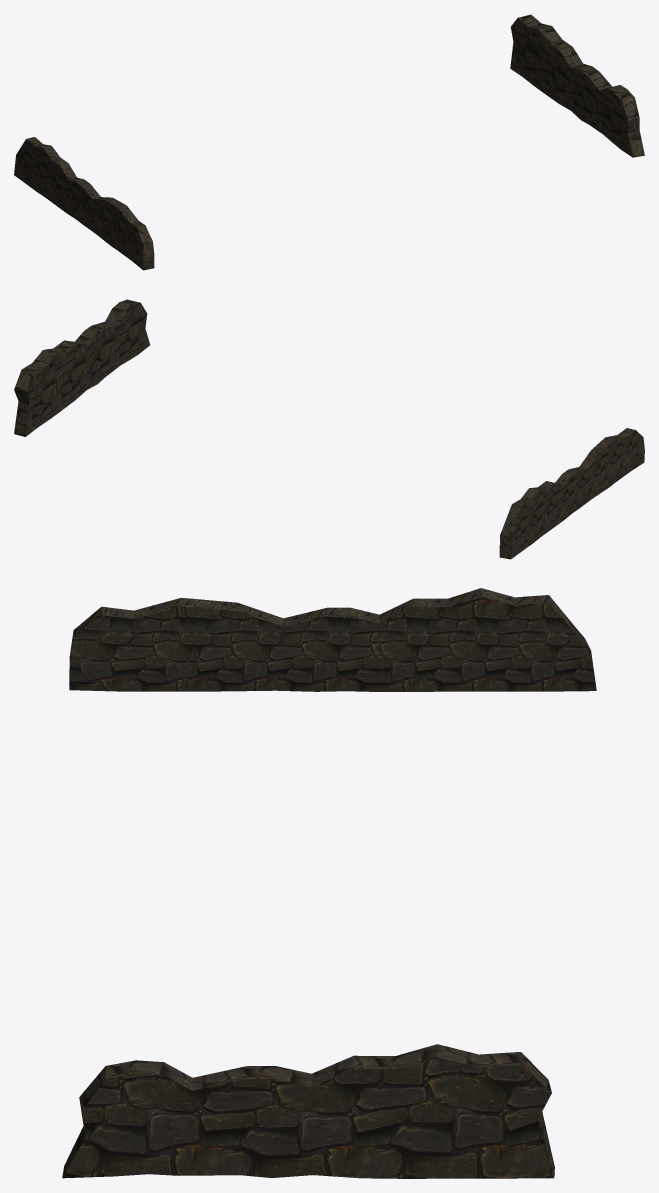
File: teste.fbx
The picture shows the model from 3 angles, top to bottom: view 1: azimuth 30°, elevation 25°; view 2: azimuth 150°, elevation 25°; view 3: azimuth 270°, elevation 25°; orthographic projection. The views are drawn at different scales.
Parts seen in each view (by area): view 1: wall2, wall; view 2: wall2, wall; view 3: wall2, wall.
Part boxes in pixels (x1,y1,x2,y2): wall2: (510, 14, 644, 157); wall: (14, 137, 154, 270); wall2: (14, 299, 150, 436); wall: (499, 428, 644, 559); wall2: (62, 1044, 554, 1178); wall: (69, 588, 596, 691).
Size of the model in its own units: 1555 by 182 by 720.
